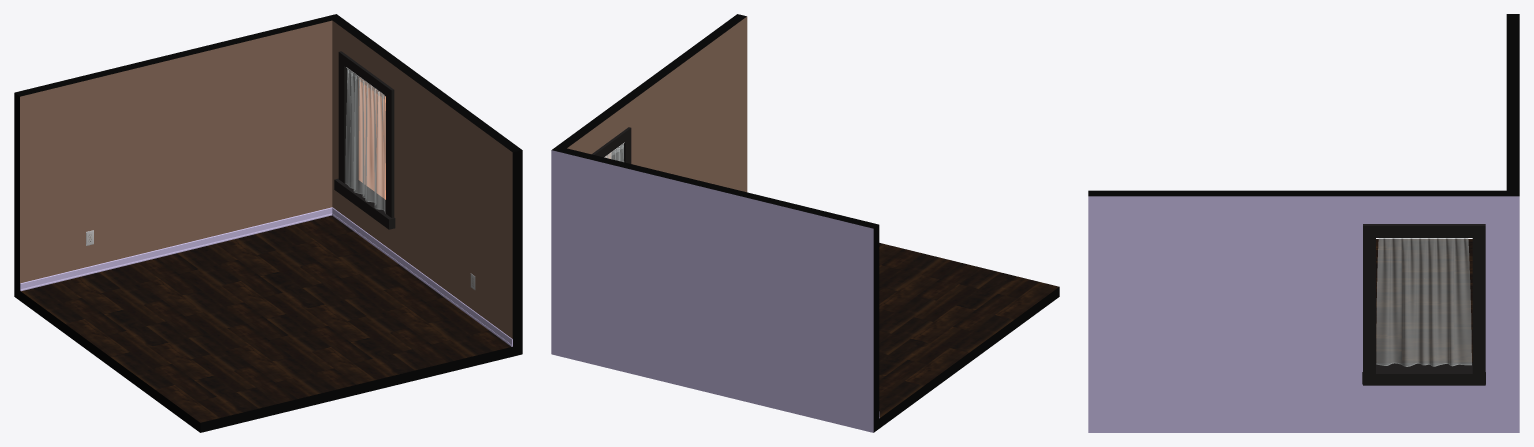
Rendered from room.gltf.
The picture shows the model from 3 angles, left to right: view 1: azimuth 30°, elevation 25°; view 2: azimuth 150°, elevation 25°; view 3: azimuth 270°, elevation 25°; orthographic projection. The views are drawn at different scales.
Visible parts, largest first — view 1: Room, WindowFrame, Curtain, Baseboard_North, WindowGlow, Baseboard_East; view 2: Room, WindowFrame; view 3: Room, Curtain, WindowFrame.
Part boxes in pixels (x1,y1,x2,y2): Room: (14, 14, 522, 432); WindowFrame: (334, 51, 395, 229); Curtain: (345, 67, 385, 213); Baseboard_North: (20, 207, 332, 291); WindowGlow: (359, 78, 385, 199); Baseboard_East: (332, 207, 512, 346); Room: (551, 14, 1059, 432); WindowFrame: (592, 127, 631, 163); Room: (1088, 14, 1519, 432); Curtain: (1376, 238, 1471, 366); WindowFrame: (1362, 224, 1485, 385).
Size of the model in its own units: 4 by 2.4 by 3.96.
Materials: 9 (3 with a texture image).
